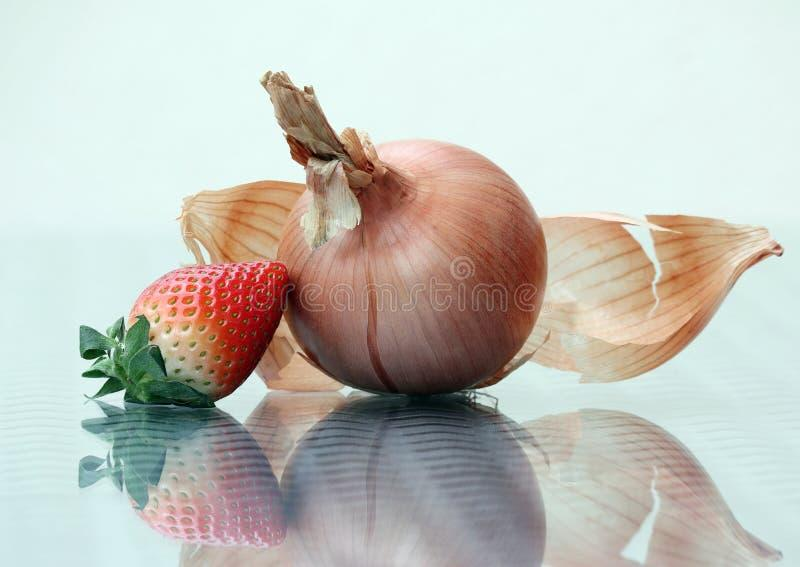Onion: (261, 71, 547, 393)
